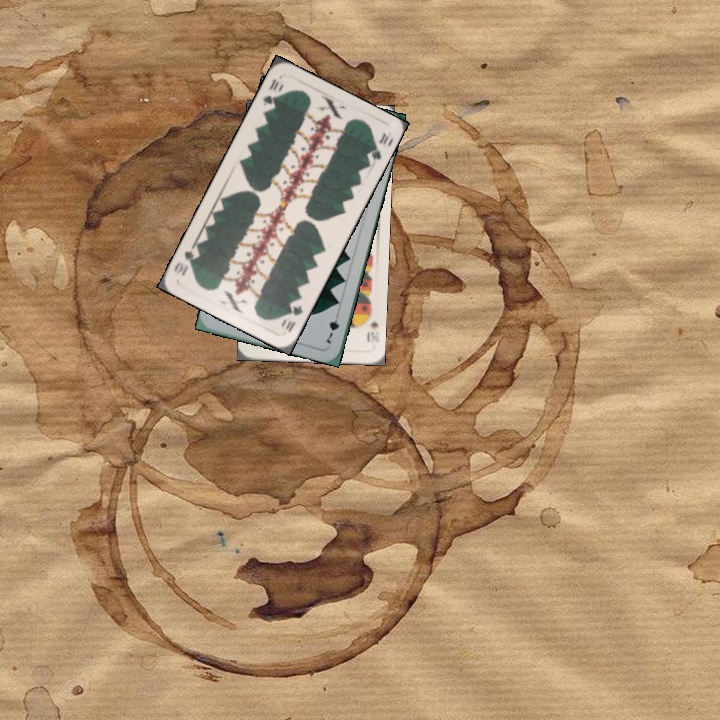G10: (259, 74, 286, 108), (282, 301, 305, 335)
G7: (322, 308, 342, 346)
S10: (362, 308, 381, 344)
